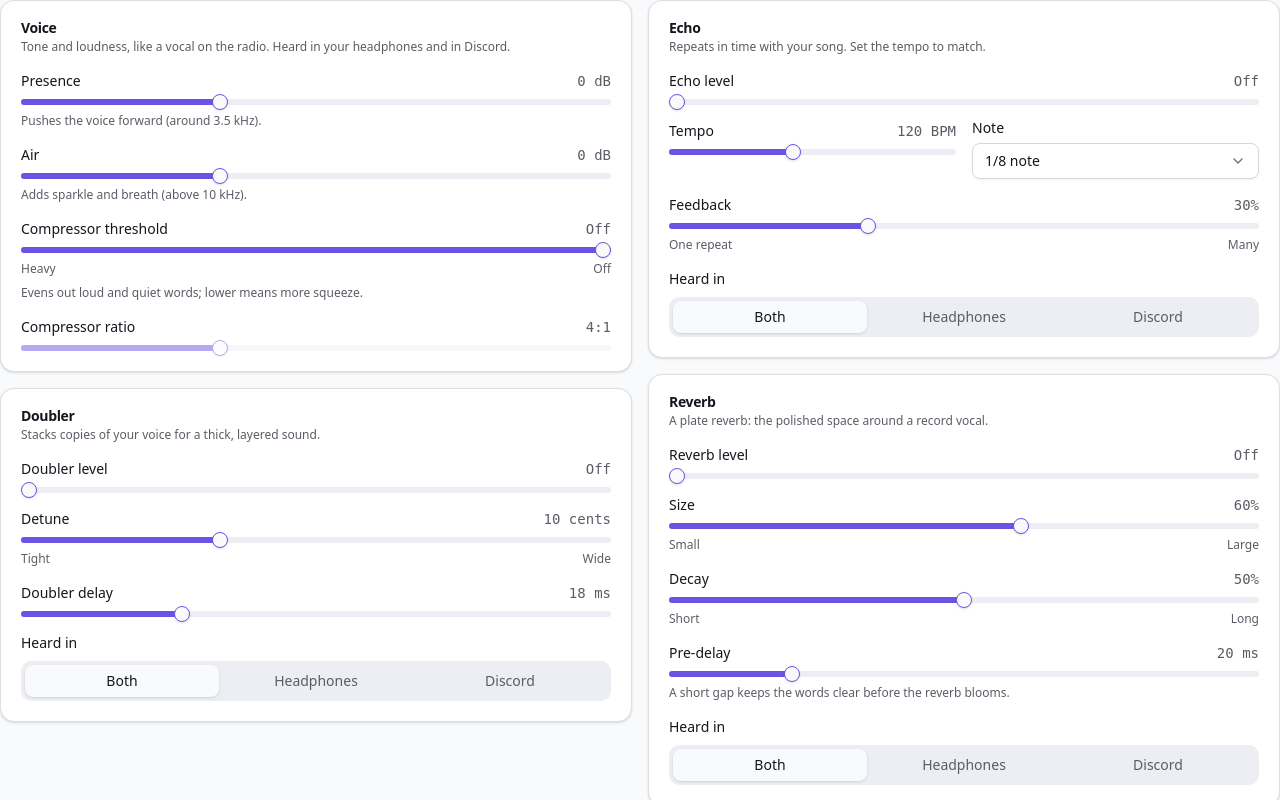
it: EffectsPanel (FR-25, FR-26) › FR-25: a level slider sends only that effect field
This screenshot has width=1280, height=800.
Click the slider named "Reverb level" at [677, 476], box [669,468,685,484]
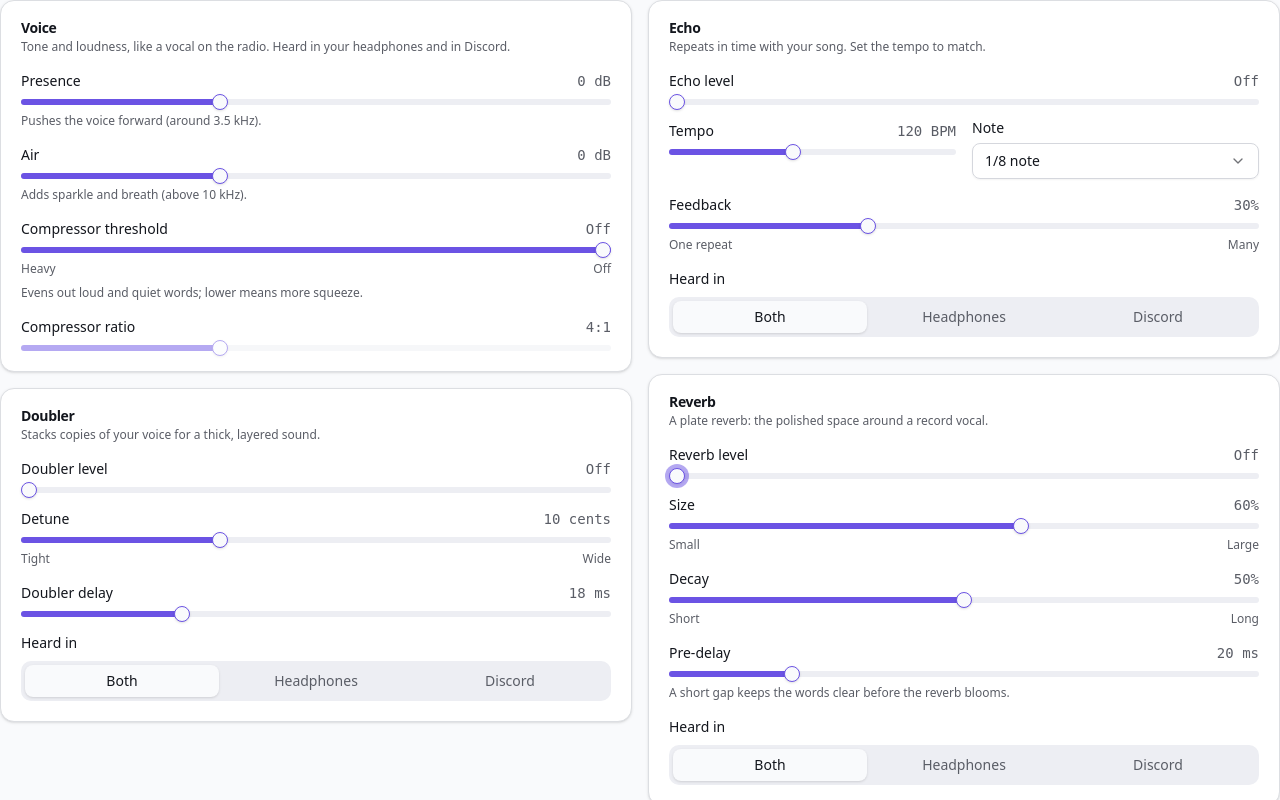
Press Arrowright
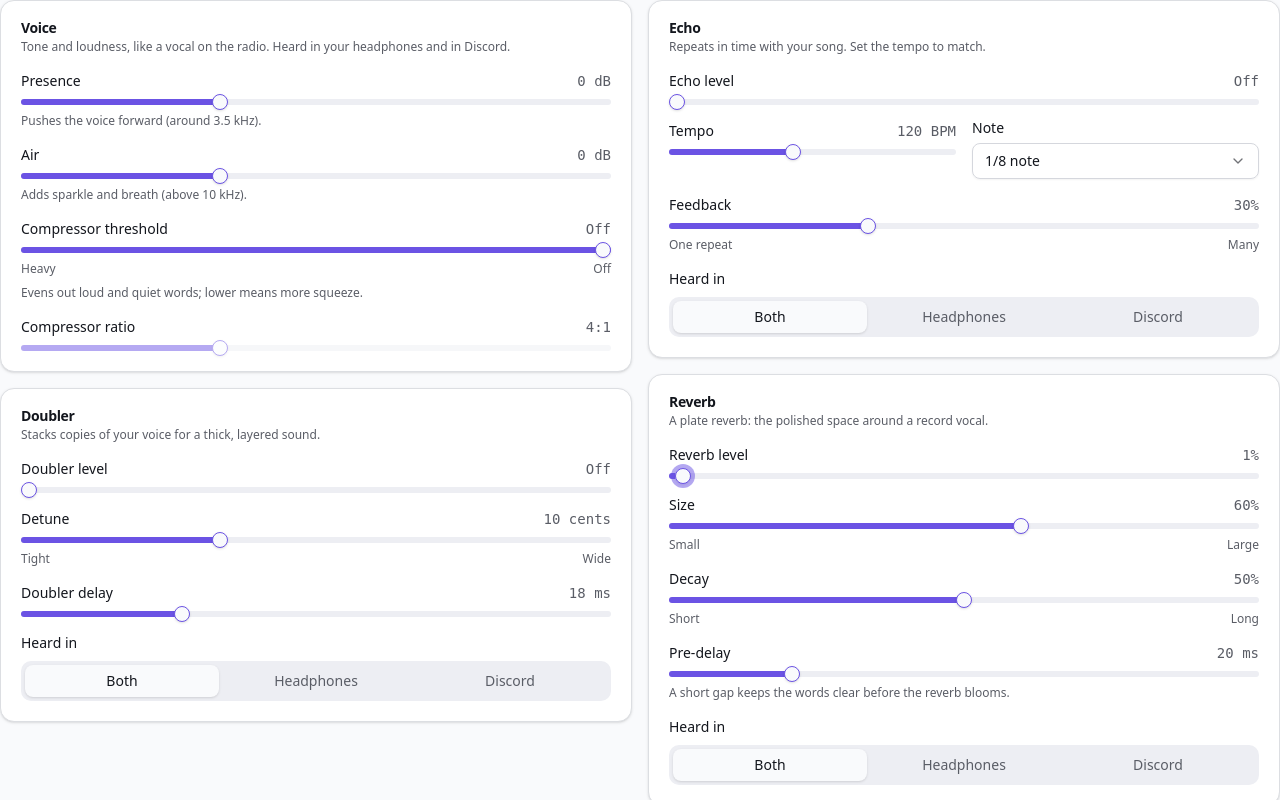
Check: the text "1%" is shown, box [1242,445,1259,465]
